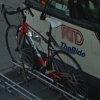Bicycle: (1, 0, 95, 97)
